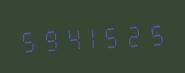five: (17, 23, 37, 55), (101, 19, 121, 51), (143, 17, 163, 49)
four: (59, 21, 79, 53)
nine: (38, 22, 58, 54)
one: (80, 20, 100, 52)
two: (122, 18, 142, 50)
